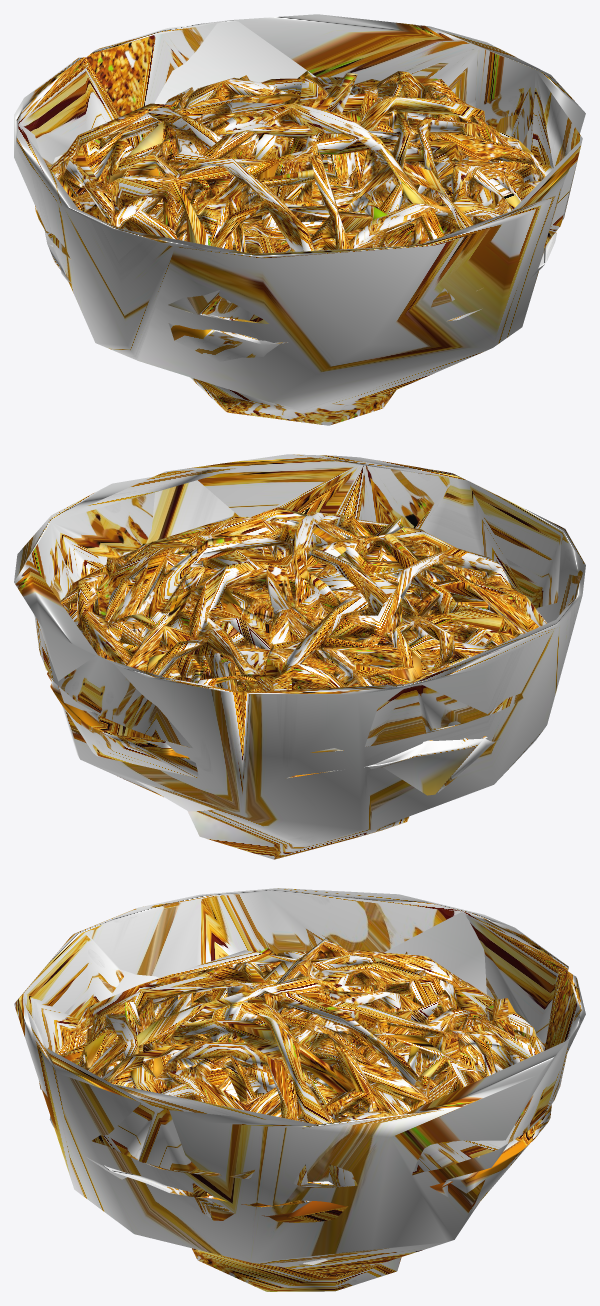
File: chow-noodles.glb
3 views of the same model, one above another, from view 1: azimuth 30°, elevation 25°; view 2: azimuth 150°, elevation 25°; view 3: azimuth 270°, elevation 25° (orthographic).
Parts seen in each view (by area): view 1: mesh; view 2: mesh; view 3: mesh.
Boxes of the visible parts, x1,y1,x2,y2 form: mesh: [14, 14, 585, 425]; mesh: [14, 454, 585, 859]; mesh: [14, 888, 585, 1291].
Bounding box in the file's own units: 1.99 × 1.04 × 1.99.
1 material, 1 textured.
